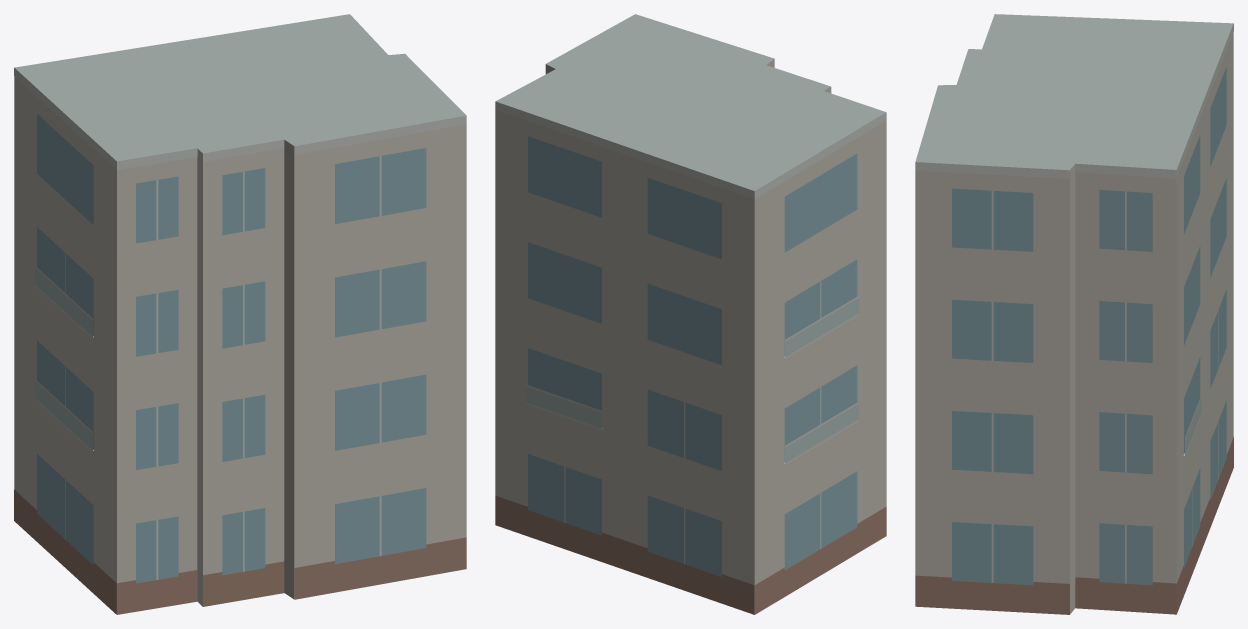
The model's file is survey-upis-33031990.glb.
3 views of the same model, side by side, from view 1: azimuth 30°, elevation 25°; view 2: azimuth 150°, elevation 25°; view 3: azimuth 270°, elevation 25° (orthographic). The views are drawn at different scales.
Visible parts, largest first — view 1: survey-upis-33031990.tmp; view 2: survey-upis-33031990.tmp; view 3: survey-upis-33031990.tmp.
Part boxes in pixels (x1=…): survey-upis-33031990.tmp: x1=14, y1=14, x2=466, y2=614; survey-upis-33031990.tmp: x1=495, y1=14, x2=886, y2=614; survey-upis-33031990.tmp: x1=915, y1=14, x2=1233, y2=614.
Size of the model in its own units: 9.66 by 12.8 by 8.32.
